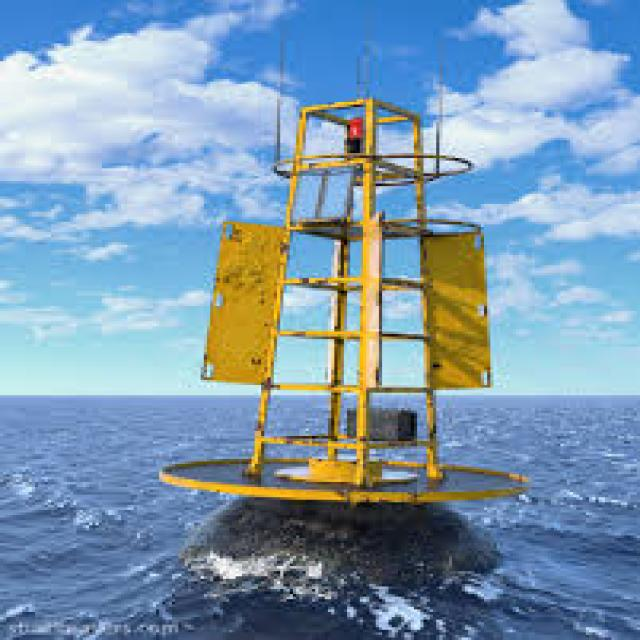buoy: (154, 37, 583, 552)
